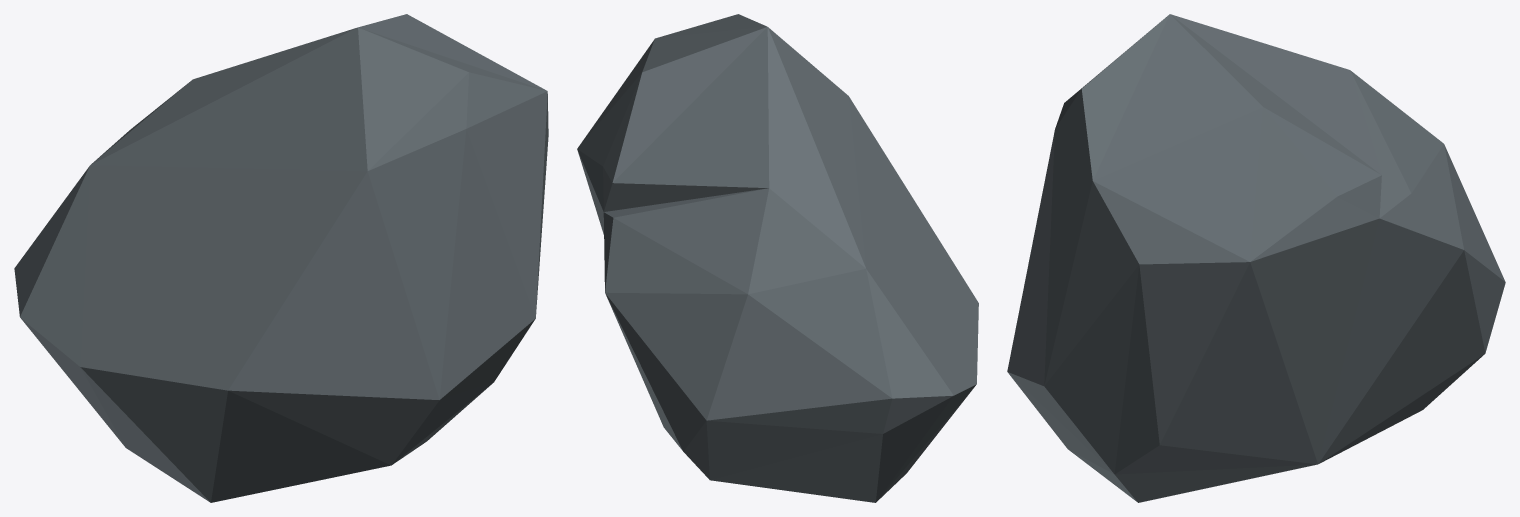
Rendered from Rock_1.fbx.
3 views of the same model, side by side, from view 1: azimuth 30°, elevation 25°; view 2: azimuth 150°, elevation 25°; view 3: azimuth 270°, elevation 25° (orthographic). The views are drawn at different scales.
Parts seen in each view (by area): view 1: Group13500; view 2: Group13500; view 3: Group13500.
Boxes of the visible parts, x1=… form: Group13500: x1=14, y1=14, x2=548, y2=502; Group13500: x1=577, y1=14, x2=978, y2=502; Group13500: x1=1007, y1=14, x2=1505, y2=502.
Bounding box in the file's own units: 130 × 123 × 114.
